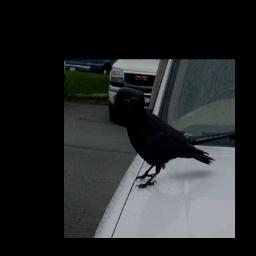Crow: (123, 96, 215, 190)
